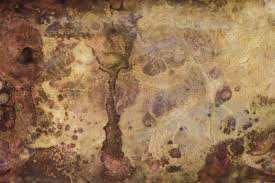rust: (98, 46, 138, 179), (1, 4, 51, 93), (3, 140, 83, 181), (196, 136, 248, 179), (31, 108, 68, 137), (1, 97, 25, 136), (163, 137, 183, 178), (211, 79, 240, 107)
